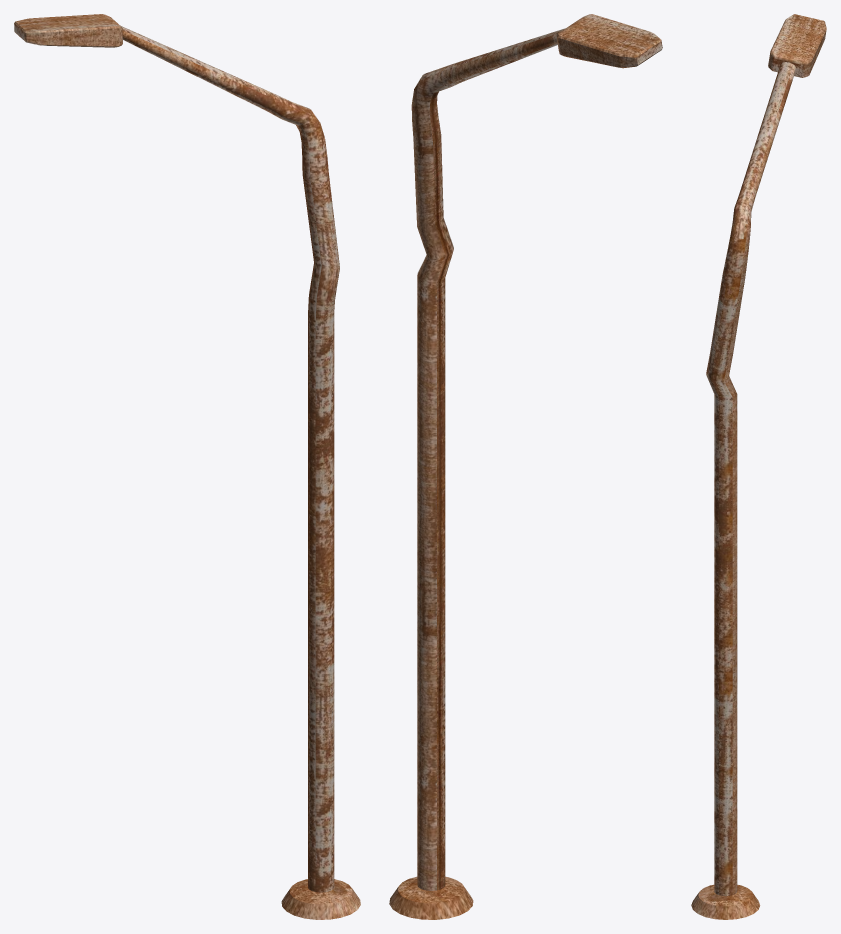
Rendered from streetlight_damaged_2.fbx.
3 views of the same model, side by side, from view 1: azimuth 30°, elevation 25°; view 2: azimuth 150°, elevation 25°; view 3: azimuth 270°, elevation 25° (orthographic). The views are drawn at different scales.
Visible parts, largest first — view 1: streetlight2; view 2: streetlight2; view 3: streetlight2.
Boxes of the visible parts, box(x1,y1,x2,y2) form: streetlight2: box(14, 14, 360, 919); streetlight2: box(389, 14, 662, 919); streetlight2: box(691, 14, 826, 919).
Size of the model in its own units: 2.53 by 7.52 by 1.18.
Materials: 1 (1 with a texture image).
